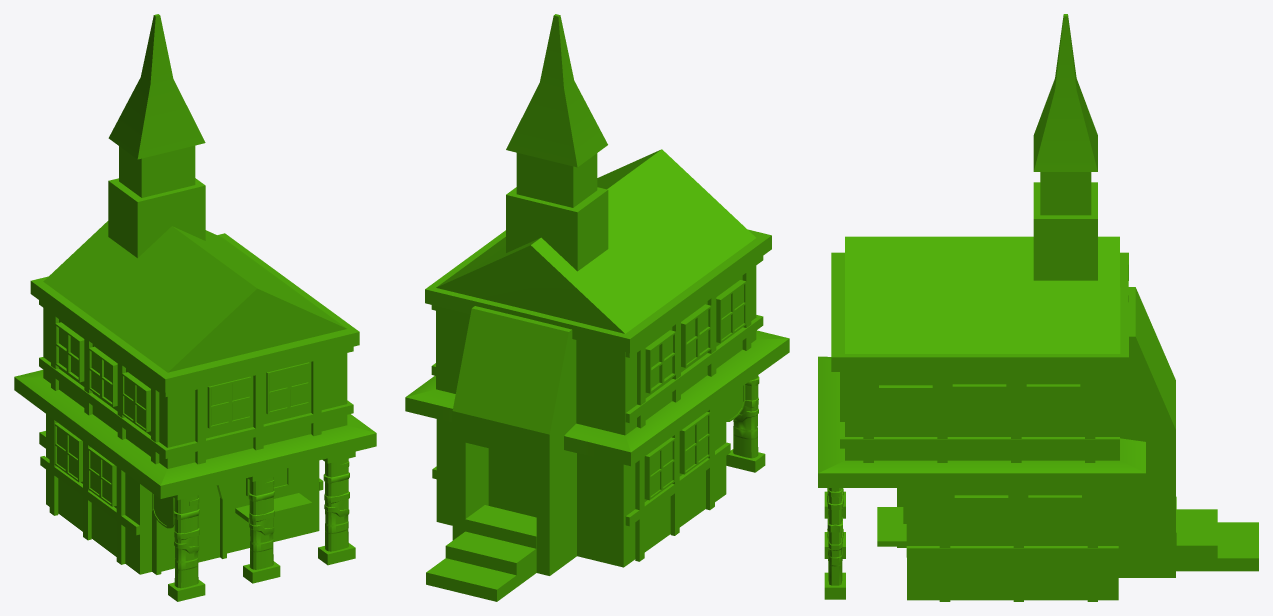
File: JH_Home.fbx
3 renders of one model, left to right at view 1: azimuth 30°, elevation 25°; view 2: azimuth 150°, elevation 25°; view 3: azimuth 270°, elevation 25°, orthographic. The views are drawn at different scales.
Parts seen in each view (by area): view 1: Box016; view 2: Box016; view 3: Box016.
Boxes of the visible parts, box(x1,y1,x2,y2) form: Box016: box(14, 14, 376, 601); Box016: box(405, 14, 789, 601); Box016: box(818, 14, 1258, 601).
Bounding box in the file's own units: 602 × 1291 × 961.
